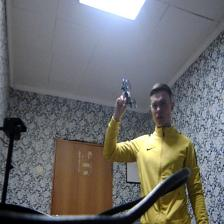drone: (117, 70, 141, 112)
